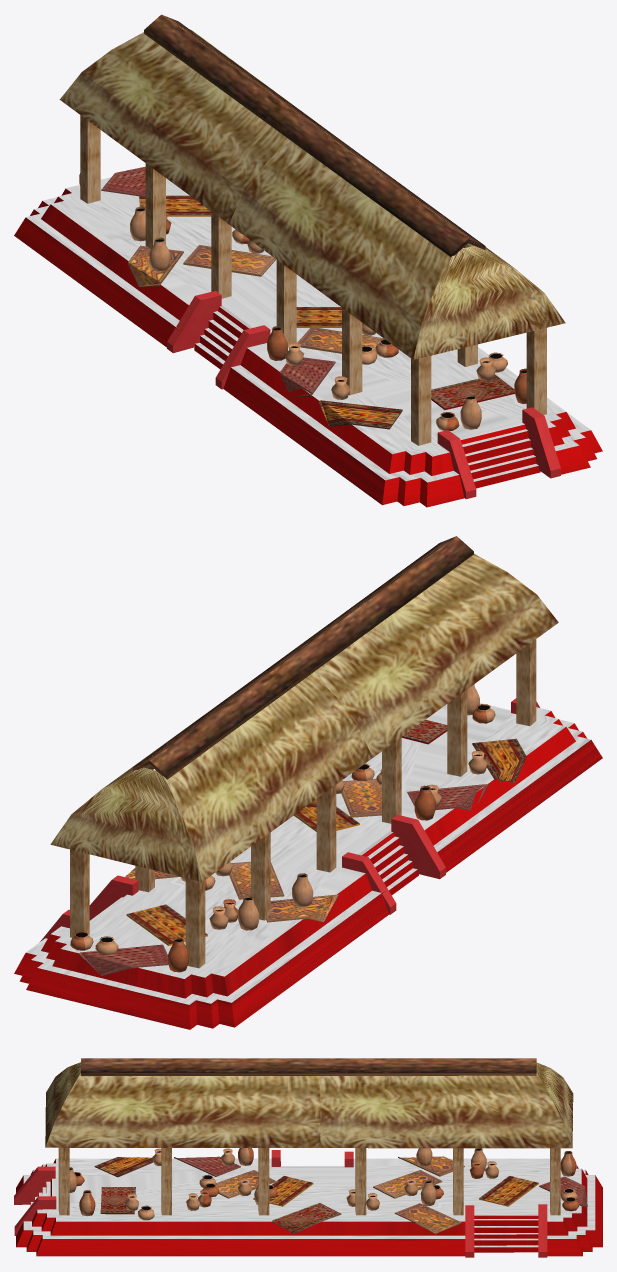
The model's file is cobertura_1.dae.
3 views of the same model, one above another, from view 1: azimuth 30°, elevation 25°; view 2: azimuth 150°, elevation 25°; view 3: azimuth 270°, elevation 25° (orthographic). The views are drawn at different scales.
Parts seen in each view (by area): view 1: cobertura_1; view 2: cobertura_1; view 3: cobertura_1.
Boxes of the visible parts, bbox=[...] form: cobertura_1: bbox=[14, 14, 602, 507]; cobertura_1: bbox=[14, 536, 602, 1029]; cobertura_1: bbox=[14, 1058, 602, 1257].
Size of the model in its own units: 10.27 by 31.27 by 9.5.
